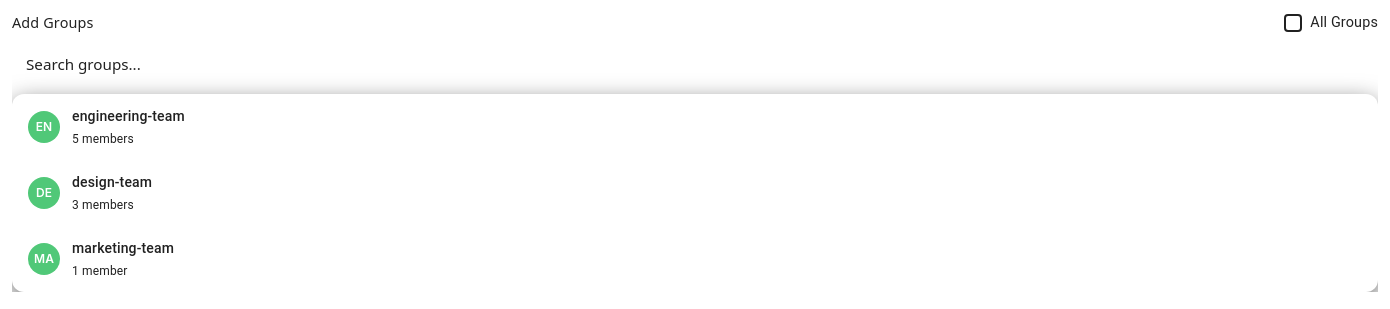
GroupSelectionPanel › Search Functionality › should show "No groups found" when search has no results
The image size is (1390, 309).
In the field with placeholder "Search groups...": coordinates (695, 64) [12,42,1378,86], type "nonexistent"
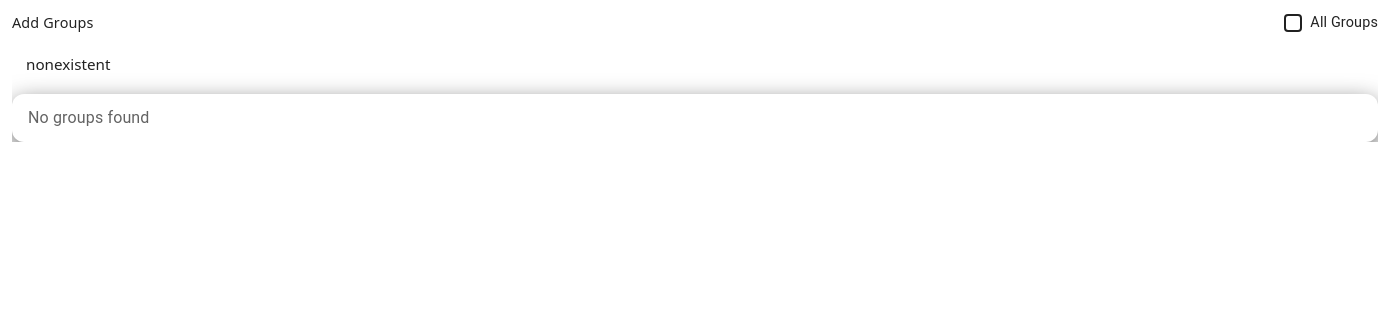
Check: the text "No groups found" is shown, box [28,108,150,127]
Check: the button "engineering-team" is gone
